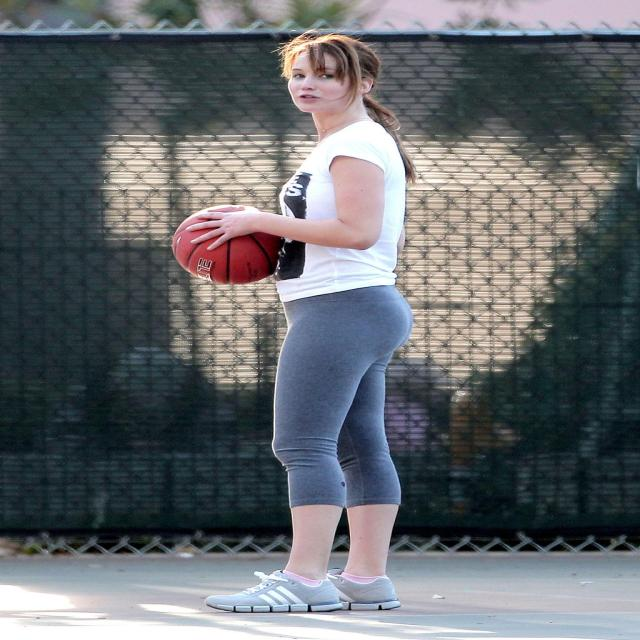Face: (281, 36, 364, 118)
